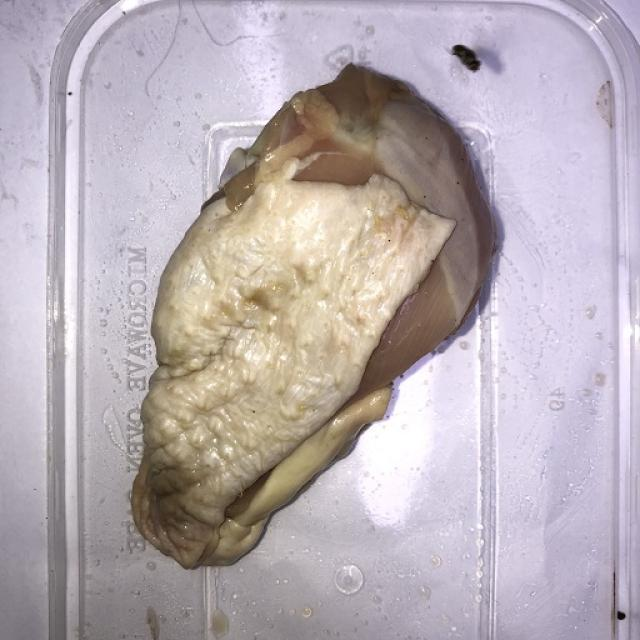chicken: (129, 61, 495, 569)
